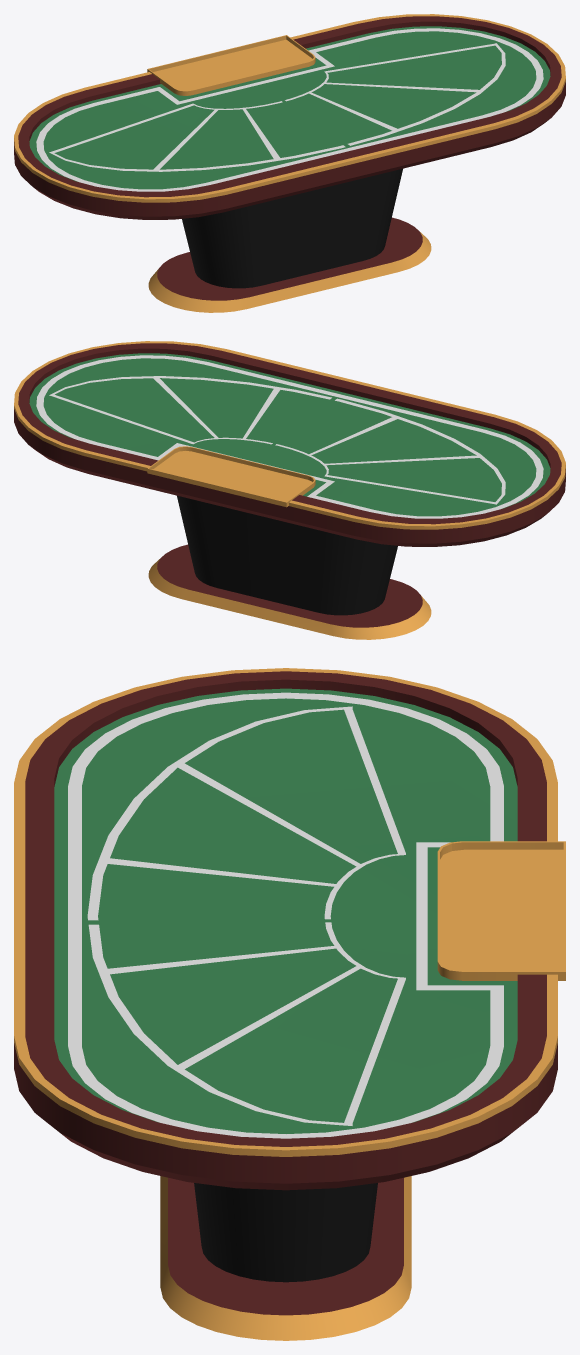
File: pokertable piecs.fbx
3 renders of one model, top to bottom at view 1: azimuth 30°, elevation 25°; view 2: azimuth 150°, elevation 25°; view 3: azimuth 270°, elevation 25°, orthographic. The views are drawn at different scales.
Visible parts, largest first — view 1: casino table.001, casino table.005, casino table.002, casino table.003, casino table.004; view 2: casino table.001, casino table.005, casino table.002, casino table.003, casino table.004; view 3: casino table.005, casino table.001, casino table.003, casino table.004, casino table.002.
Part boxes in pixels (x1,y1,x2,y2): casino table.001: (14, 72, 360, 219); casino table.005: (251, 14, 565, 179); casino table.002: (182, 168, 402, 288); casino table.003: (148, 217, 431, 312); casino table.004: (147, 35, 315, 95); casino table.001: (219, 382, 565, 546); casino table.005: (14, 341, 360, 506); casino table.002: (177, 495, 397, 615); casino table.003: (148, 544, 431, 639); casino table.004: (147, 446, 315, 507); casino table.005: (14, 909, 557, 1190); casino table.001: (14, 668, 557, 928); casino table.003: (160, 1176, 411, 1340); casino table.004: (437, 841, 565, 980); casino table.002: (194, 1183, 377, 1282).
Size of the model in its own units: 250 by 74.88 by 121.
